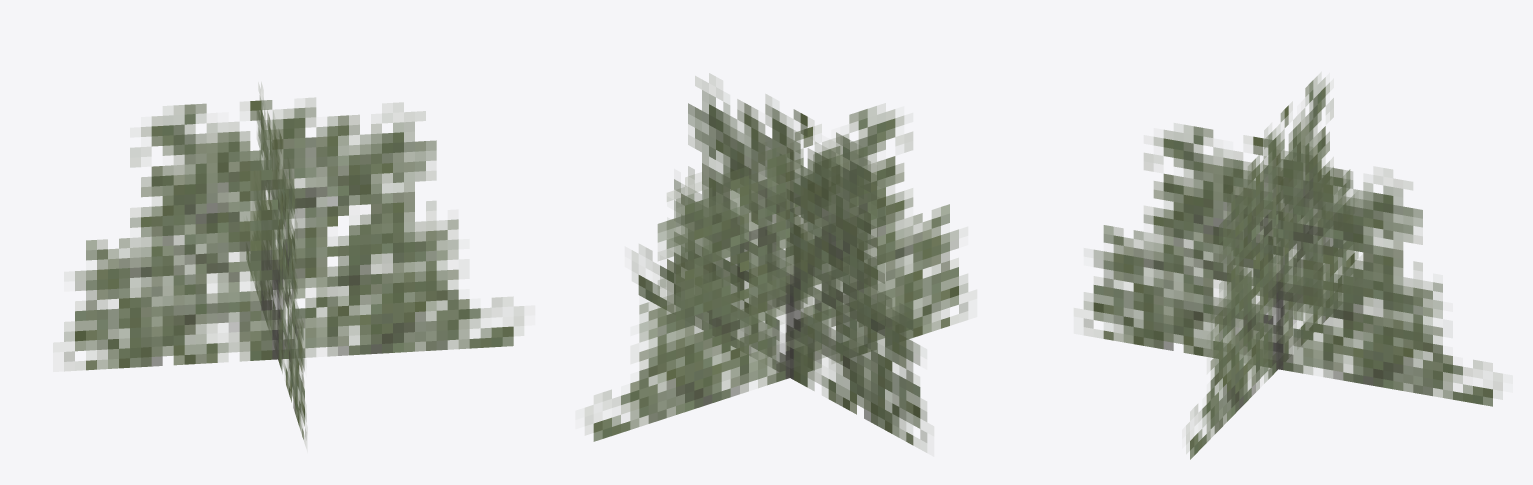
Rendered from tree-shrub.017_lev3.glb.
3 views of the same model, side by side, from view 1: azimuth 30°, elevation 25°; view 2: azimuth 150°, elevation 25°; view 3: azimuth 270°, elevation 25° (orthographic). The views are drawn at different scales.
Parts seen in each view (by area): view 1: tree-shrub.017_lev3; view 2: tree-shrub.017_lev3; view 3: tree-shrub.017_lev3.
Boxes of the visible parts, box(x1,y1,x2,y2) form: tree-shrub.017_lev3: box(64, 83, 523, 444); tree-shrub.017_lev3: box(585, 73, 968, 452); tree-shrub.017_lev3: box(1083, 73, 1502, 459).
Bounding box in the file's own units: 11.07 × 6.45 × 11.07.
Materials: 1 (1 with a texture image).
